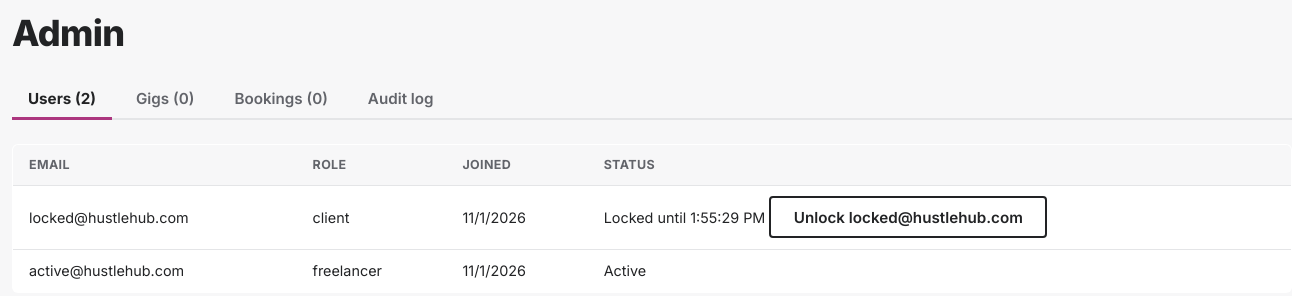
it: AdminPage › loads the audit log only when its tab is opened, and shows the events
The width and height of the screenshot is (1292, 296).
Expected: the text "Locked until 1:55:29 PM Unlock locked@hustlehub.com" is shown, [588, 185, 1291, 249]
What coordinates should you click on to do the following:
click the button "Audit log"
I would click on:
 (401, 100)
Its box is [352, 79, 450, 120].
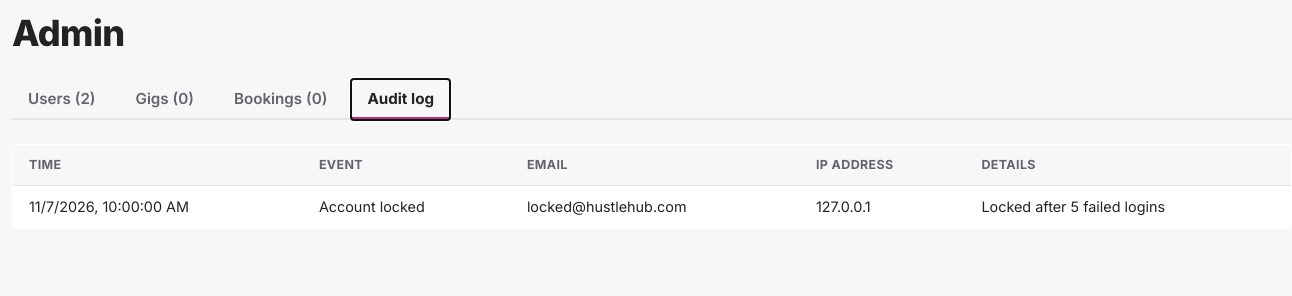
Result: the text "127.0.0.1" is shown at [800, 185, 966, 229]
Result: the text "Locked after 5 failed logins" is shown at [965, 185, 1291, 229]
